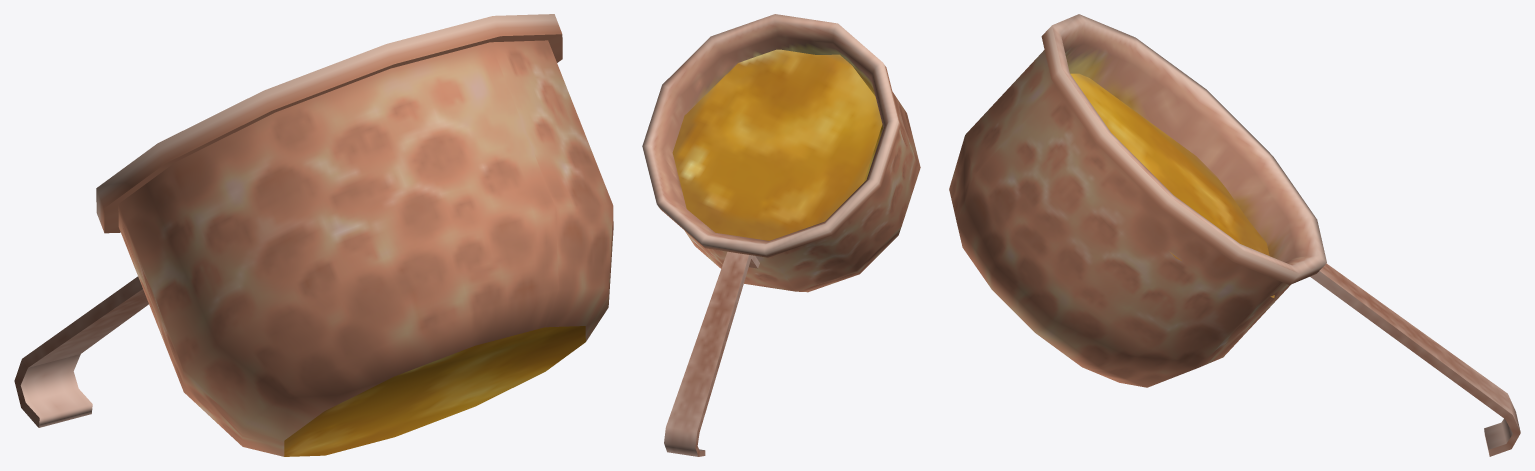
The model's file is C_FryingSaucepanOil_Copper.fbx.
3 views of the same model, side by side, from view 1: azimuth 30°, elevation 25°; view 2: azimuth 150°, elevation 25°; view 3: azimuth 270°, elevation 25° (orthographic). The views are drawn at different scales.
Parts seen in each view (by area): view 1: SaucePan_Copper; view 2: SaucePan_Copper; view 3: SaucePan_Copper.
Part boxes in pixels (bbox=[...]): SaucePan_Copper: bbox=[14, 14, 613, 456]; SaucePan_Copper: bbox=[642, 14, 920, 456]; SaucePan_Copper: bbox=[949, 14, 1520, 456].
Size of the model in its own units: 38.07 by 49.72 by 60.13.
